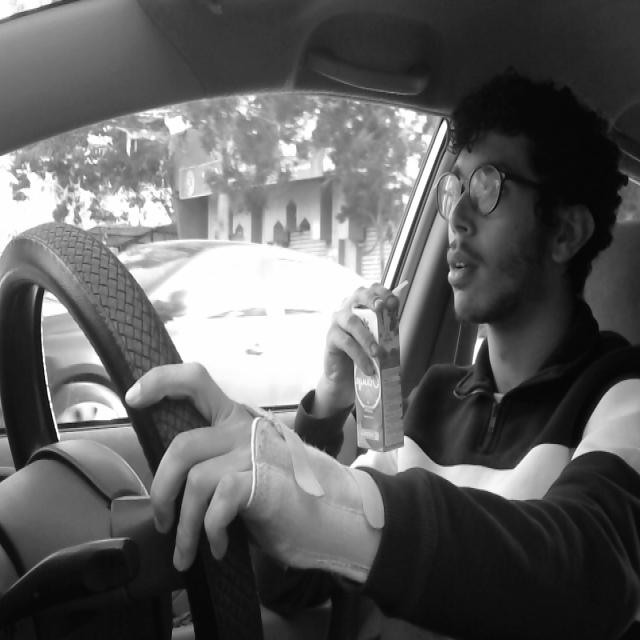drinking: (352, 275, 413, 455)
